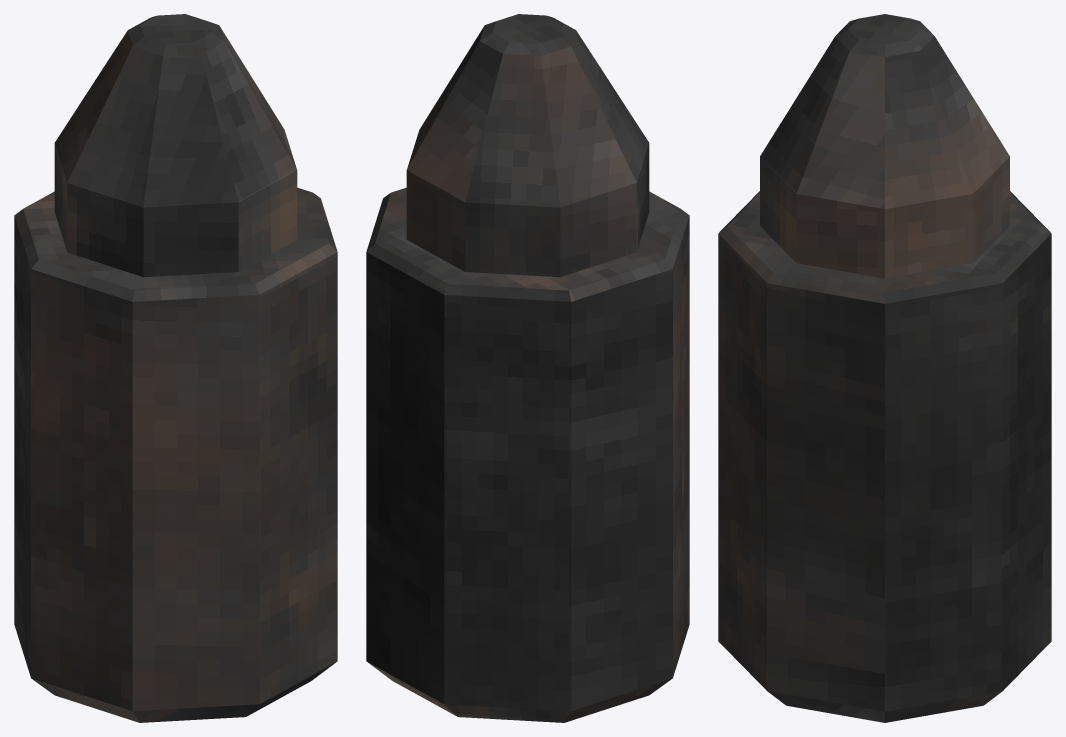
File: Bullet.fbx
The picture shows the model from 3 angles, left to right: view 1: azimuth 30°, elevation 25°; view 2: azimuth 150°, elevation 25°; view 3: azimuth 270°, elevation 25°; orthographic projection.
Visible parts, largest first — view 1: Bullet; view 2: Bullet; view 3: Bullet.
Part boxes in pixels (left/top/right/bottom): Bullet: left=14, top=14, right=337, bottom=722; Bullet: left=366, top=14, right=689, bottom=722; Bullet: left=718, top=14, right=1051, bottom=722.
Size of the model in its own units: 5 by 10.5 by 5.
1 material, 1 textured.
